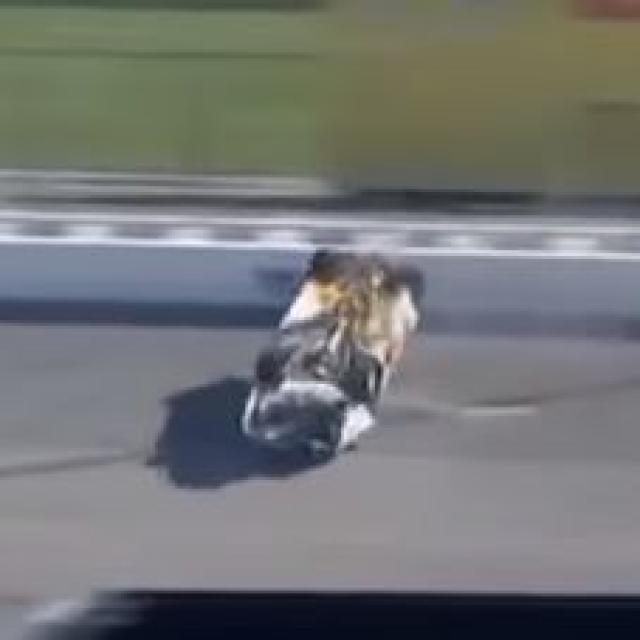traffic_incident: (226, 247, 437, 454)
